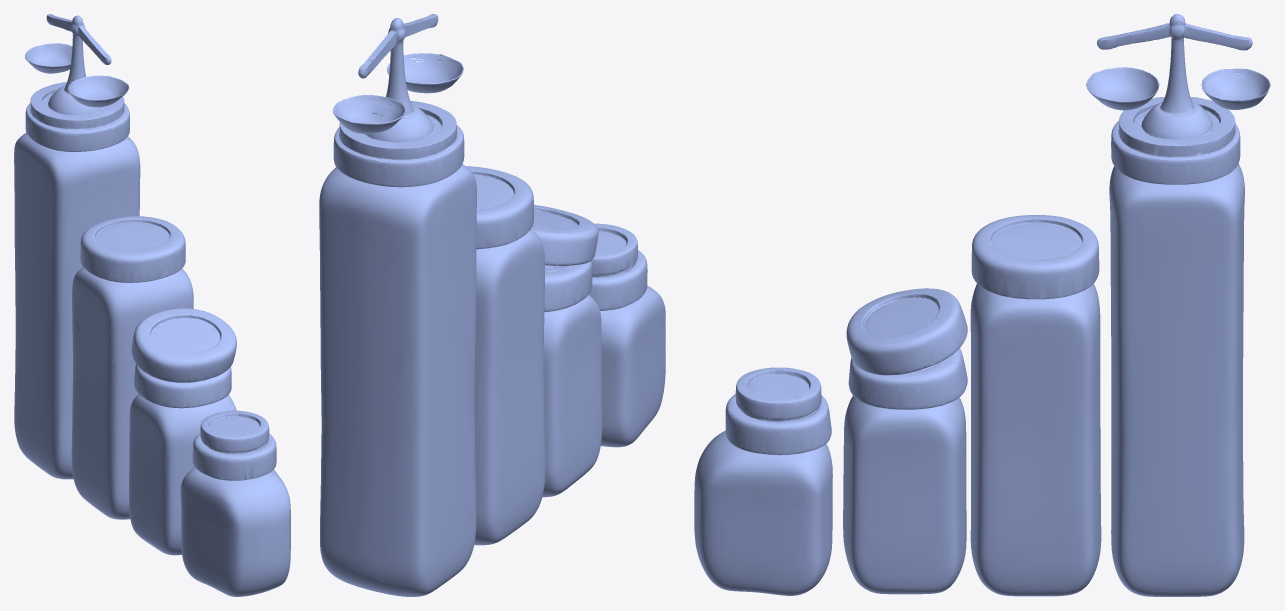
Rendered from economia.glb.
The picture shows the model from 3 angles, left to right: view 1: azimuth 30°, elevation 25°; view 2: azimuth 150°, elevation 25°; view 3: azimuth 270°, elevation 25°; orthographic projection. The views are drawn at different scales.
Parts seen in each view (by area): view 1: model; view 2: model; view 3: model.
Boxes of the visible parts, left/top/right/bottom form: model: left=14, top=14, right=290, bottom=596; model: left=319, top=14, right=665, bottom=596; model: left=694, top=14, right=1270, bottom=596.
Bounding box in the file's own units: 0.3966 × 1.87 × 1.73.
